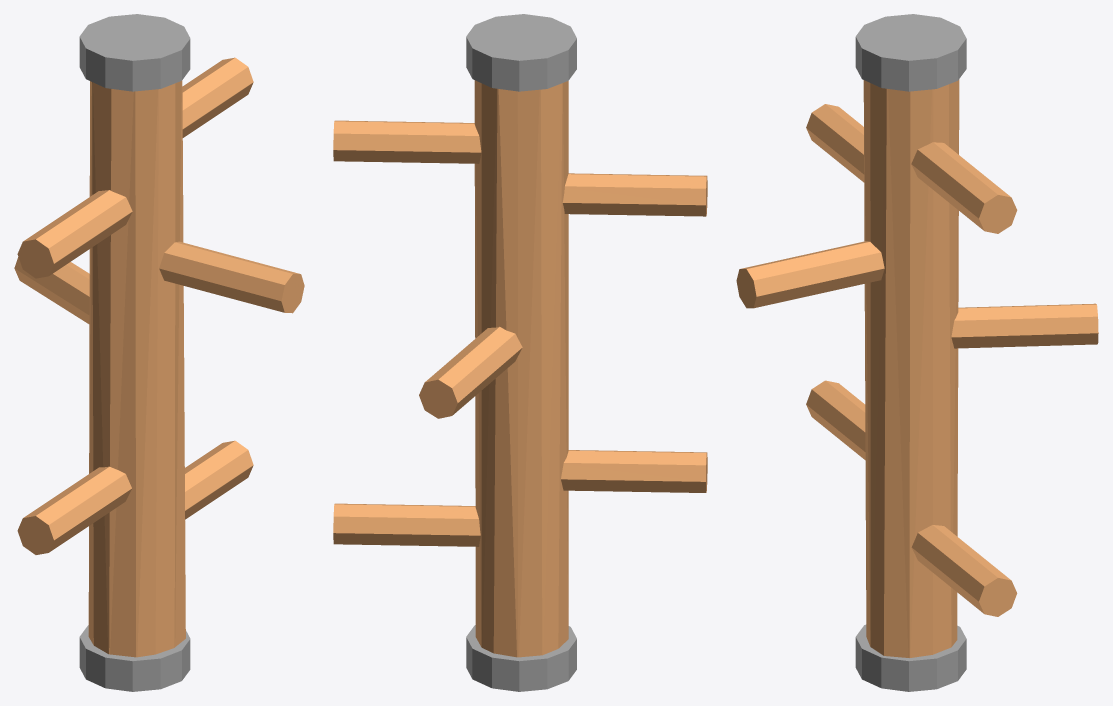
Rendered from wooden_dummy.fbx.
3 views of the same model, side by side, from view 1: azimuth 30°, elevation 25°; view 2: azimuth 150°, elevation 25°; view 3: azimuth 270°, elevation 25° (orthographic).
Visible parts, largest first — view 1: wooden_dummy; view 2: wooden_dummy; view 3: wooden_dummy.
Boxes of the visible parts, x1,y1,x2,y2 form: wooden_dummy: (14, 14, 304, 691); wooden_dummy: (333, 14, 707, 691); wooden_dummy: (736, 14, 1098, 691).
Size of the model in its own units: 0.9083 by 1.8 by 0.9385.
